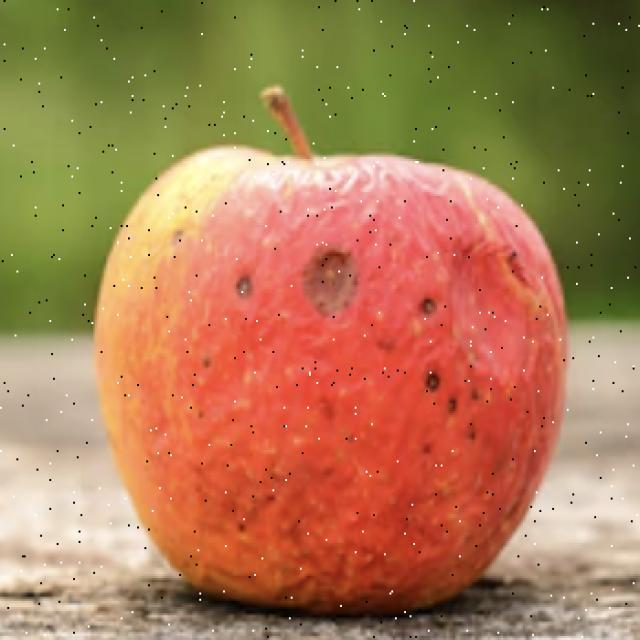Rotten: (107, 130, 540, 610)
